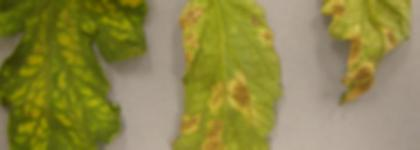Tomato mold leaf: (0, 0, 151, 150), (166, 0, 287, 150), (305, 0, 420, 98)
